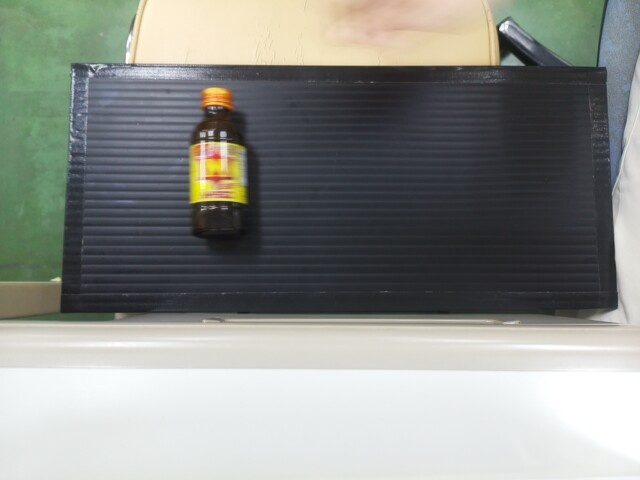glass_bottle: (185, 85, 246, 233)
